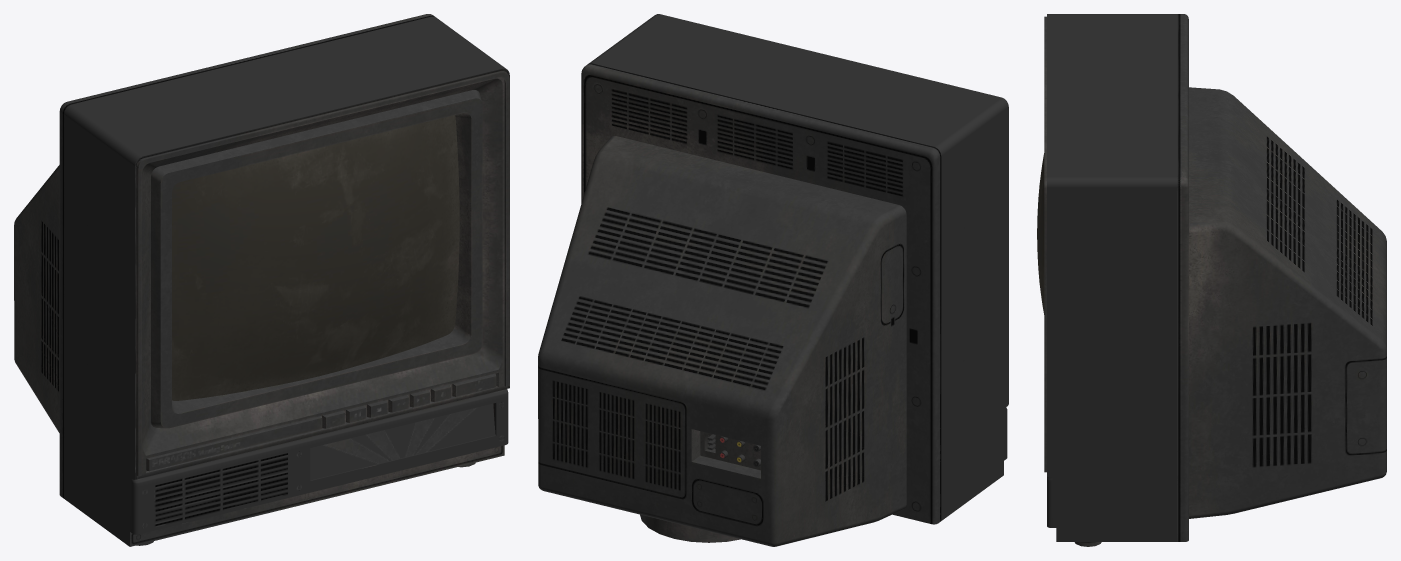
Rendered from OldTV.fbx.
3 views of the same model, side by side, from view 1: azimuth 30°, elevation 25°; view 2: azimuth 150°, elevation 25°; view 3: azimuth 270°, elevation 25° (orthographic). The views are drawn at different scales.
Visible parts, largest first — view 1: OldTV; view 2: OldTV; view 3: OldTV.
Boxes of the visible parts, bbox=[...] form: OldTV: bbox=[14, 14, 509, 546]; OldTV: bbox=[538, 14, 1008, 546]; OldTV: bbox=[1037, 14, 1386, 546].
Size of the model in its own units: 0.3997 by 0.4114 by 0.3502.
